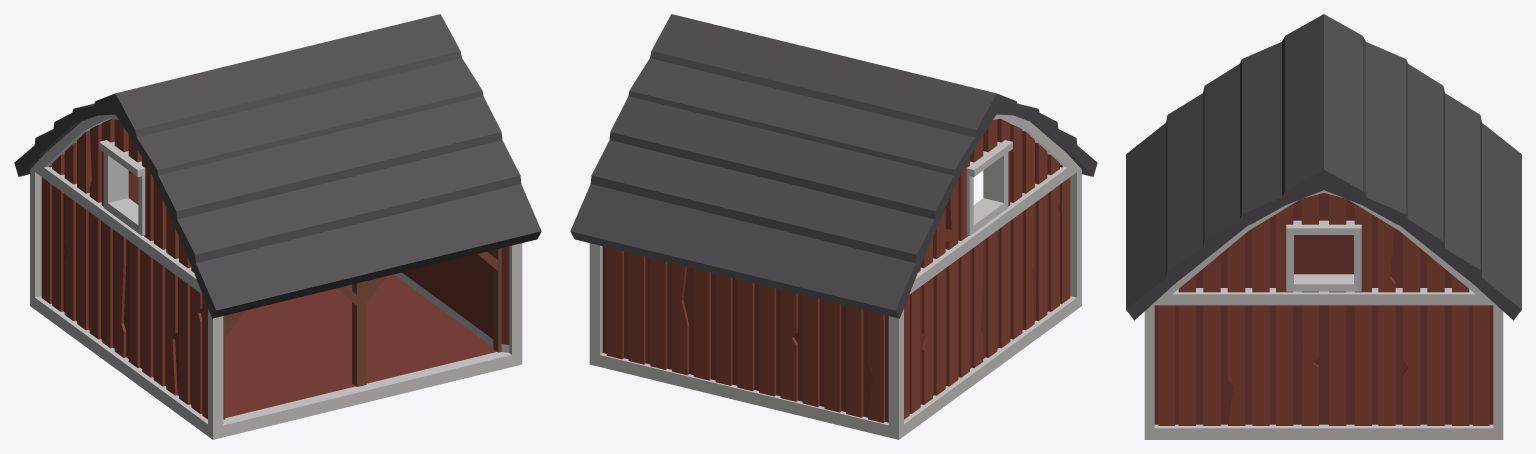
Rendered from barn_open.glb.
3 views of the same model, side by side, from view 1: azimuth 30°, elevation 25°; view 2: azimuth 150°, elevation 25°; view 3: azimuth 270°, elevation 25° (orthographic). The views are drawn at different scales.
Parts seen in each view (by area): view 1: OpenBarn_Cube.045; view 2: OpenBarn_Cube.045; view 3: OpenBarn_Cube.045.
Boxes of the visible parts, x1,y1,x2,y2 form: OpenBarn_Cube.045: [14, 14, 541, 439]; OpenBarn_Cube.045: [570, 14, 1097, 439]; OpenBarn_Cube.045: [1126, 14, 1521, 439].
Size of the model in its own units: 5.74 by 4.74 by 6.18.
Materials: 1 (1 with a texture image).
